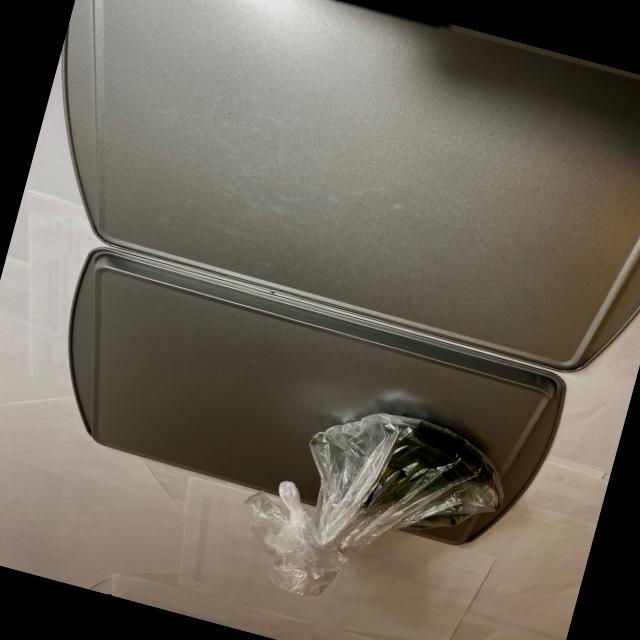chilli: (297, 396, 518, 544)
